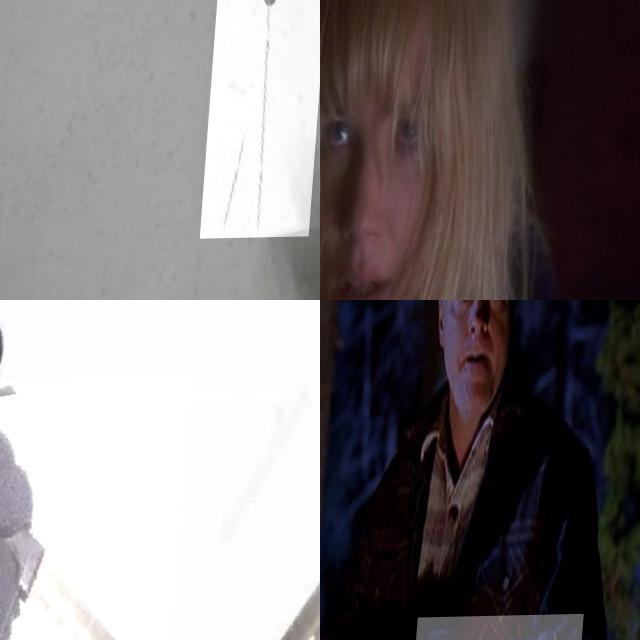-: (0, 376, 193, 640), (206, 0, 320, 240), (222, 365, 320, 640)
gun-knife-thesis - v11 Yolov5 augmented: (320, 0, 417, 300)
